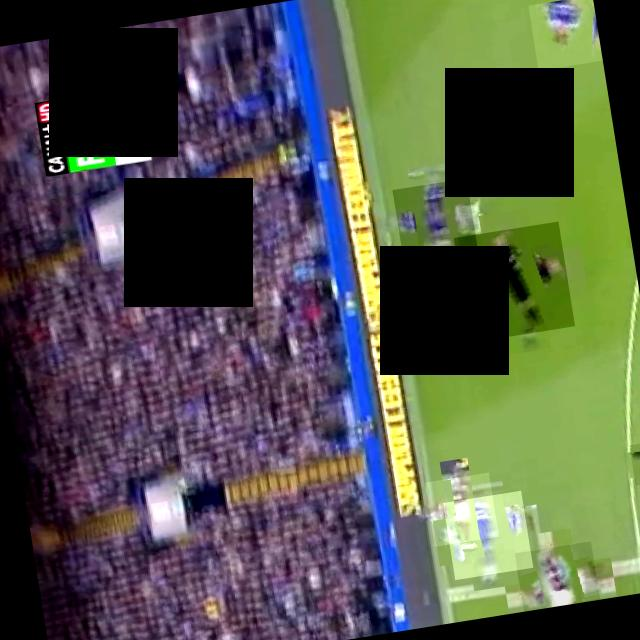referee: (454, 222, 574, 342)
soccer-player: (442, 491, 532, 580), (392, 178, 478, 264), (514, 542, 599, 612), (424, 473, 498, 547), (527, 0, 603, 71), (628, 440, 640, 486)
